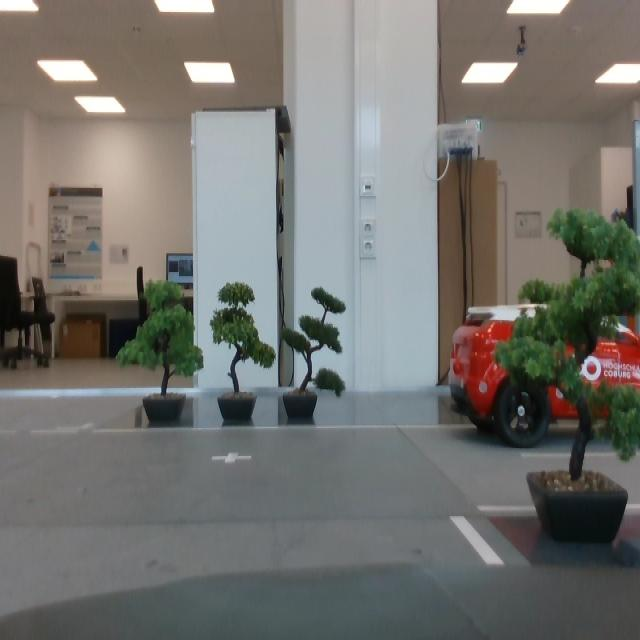car: (449, 302, 640, 448)
potted plant: (499, 206, 640, 541), (115, 277, 204, 422), (210, 281, 276, 421), (280, 285, 347, 418)
